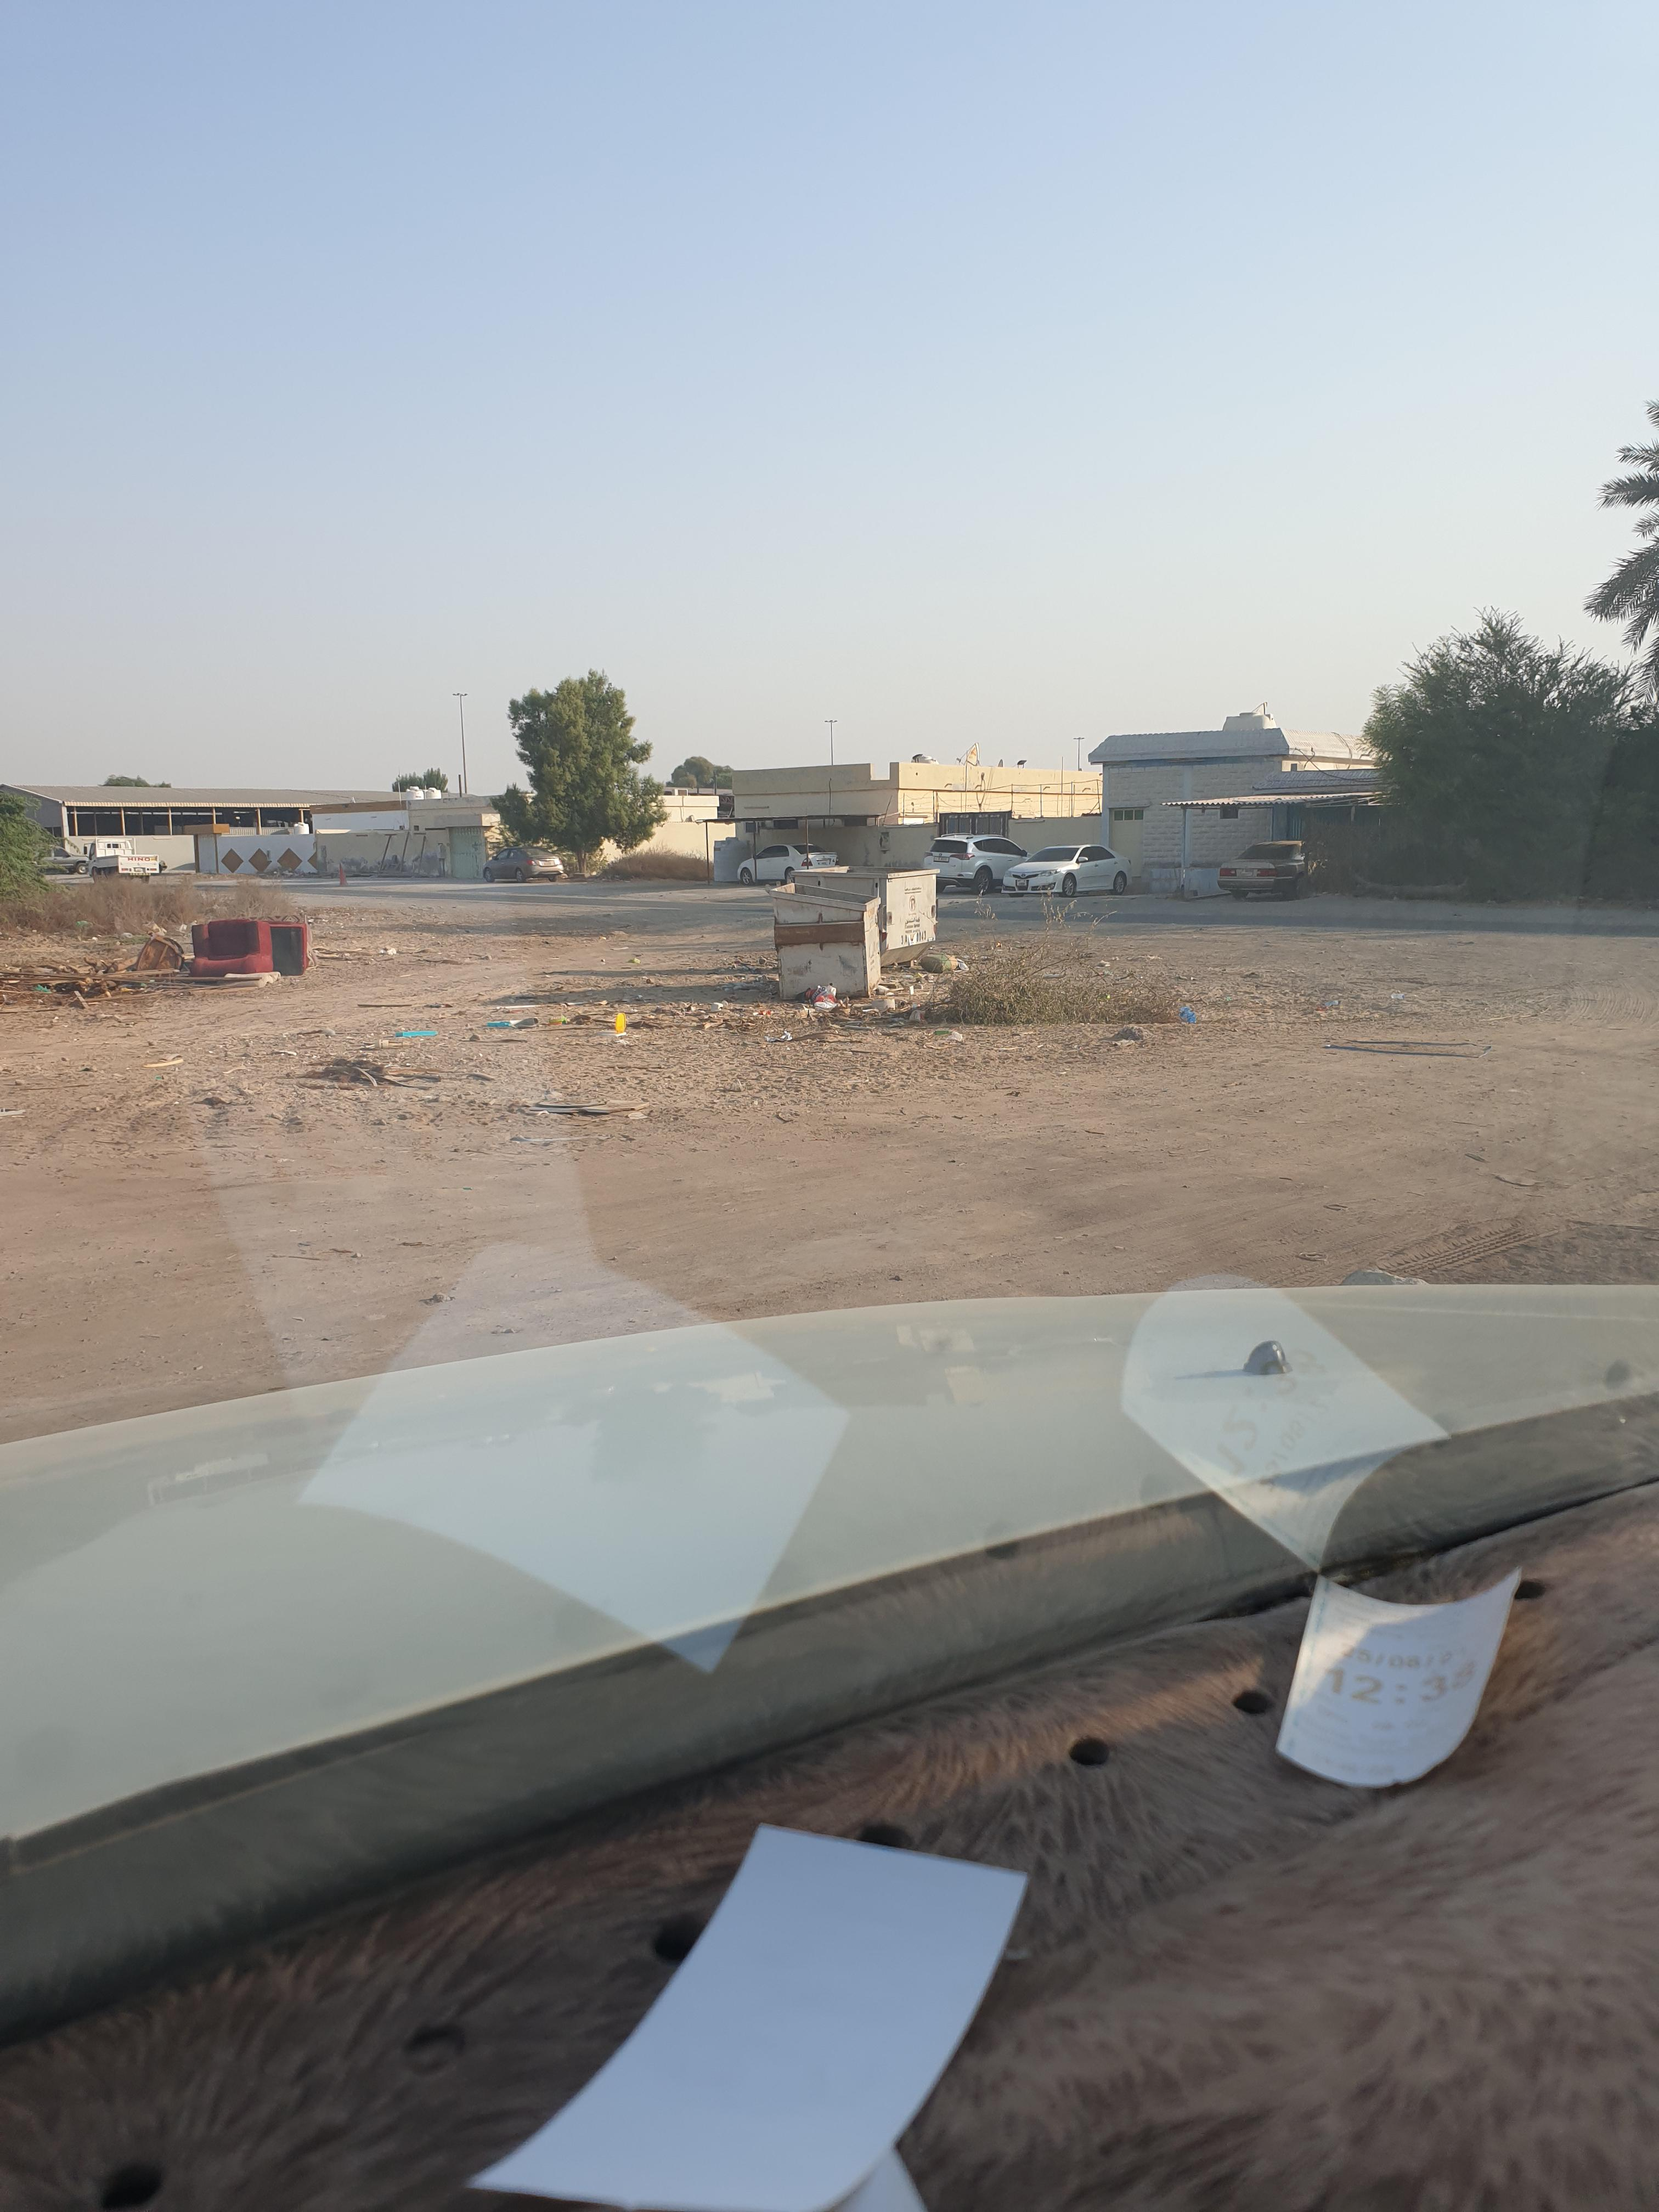fallen_trees: (936, 951, 1253, 1045)
uncollected_waste: (159, 907, 350, 986)
